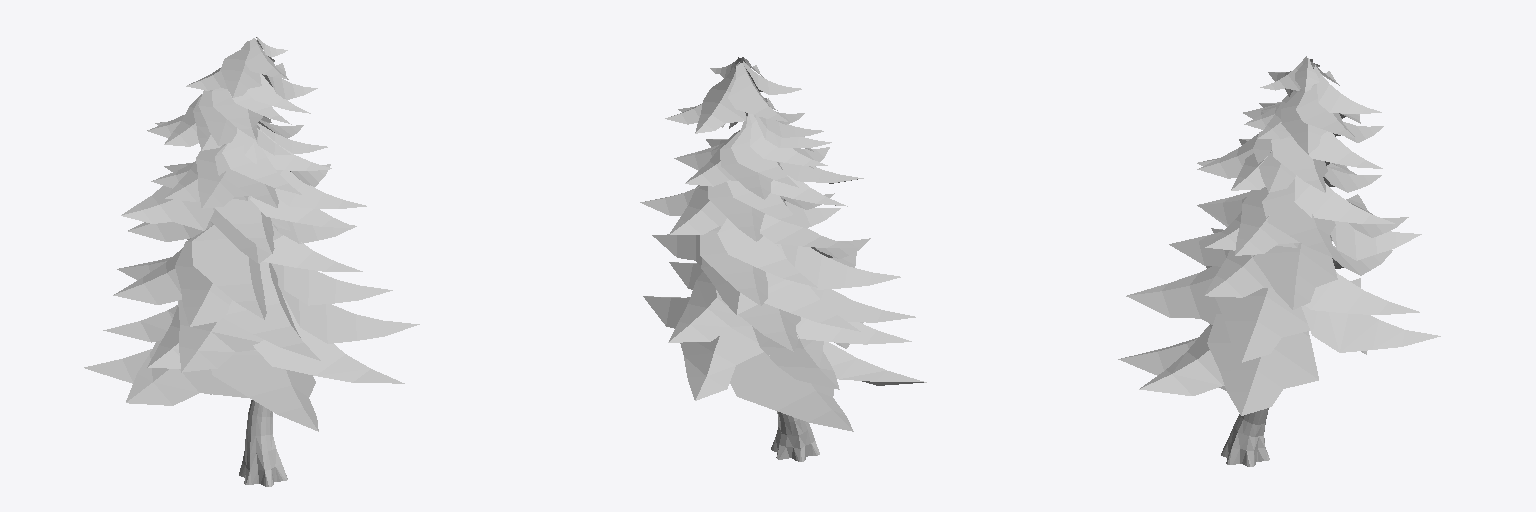
The model's file is Pine_5.obj.
3 views of the same model, side by side, from view 1: azimuth 30°, elevation 25°; view 2: azimuth 150°, elevation 25°; view 3: azimuth 270°, elevation 25° (orthographic).
Visible parts, largest first — view 1: Pine_5; view 2: Pine_5; view 3: Pine_5.
Part boxes in pixels (left/top/right/bottom): Pine_5: left=84, top=37, right=419, bottom=486; Pine_5: left=640, top=57, right=926, bottom=461; Pine_5: left=1118, top=56, right=1440, bottom=466.
Size of the model in its own units: 6.42 by 8.72 by 6.22.